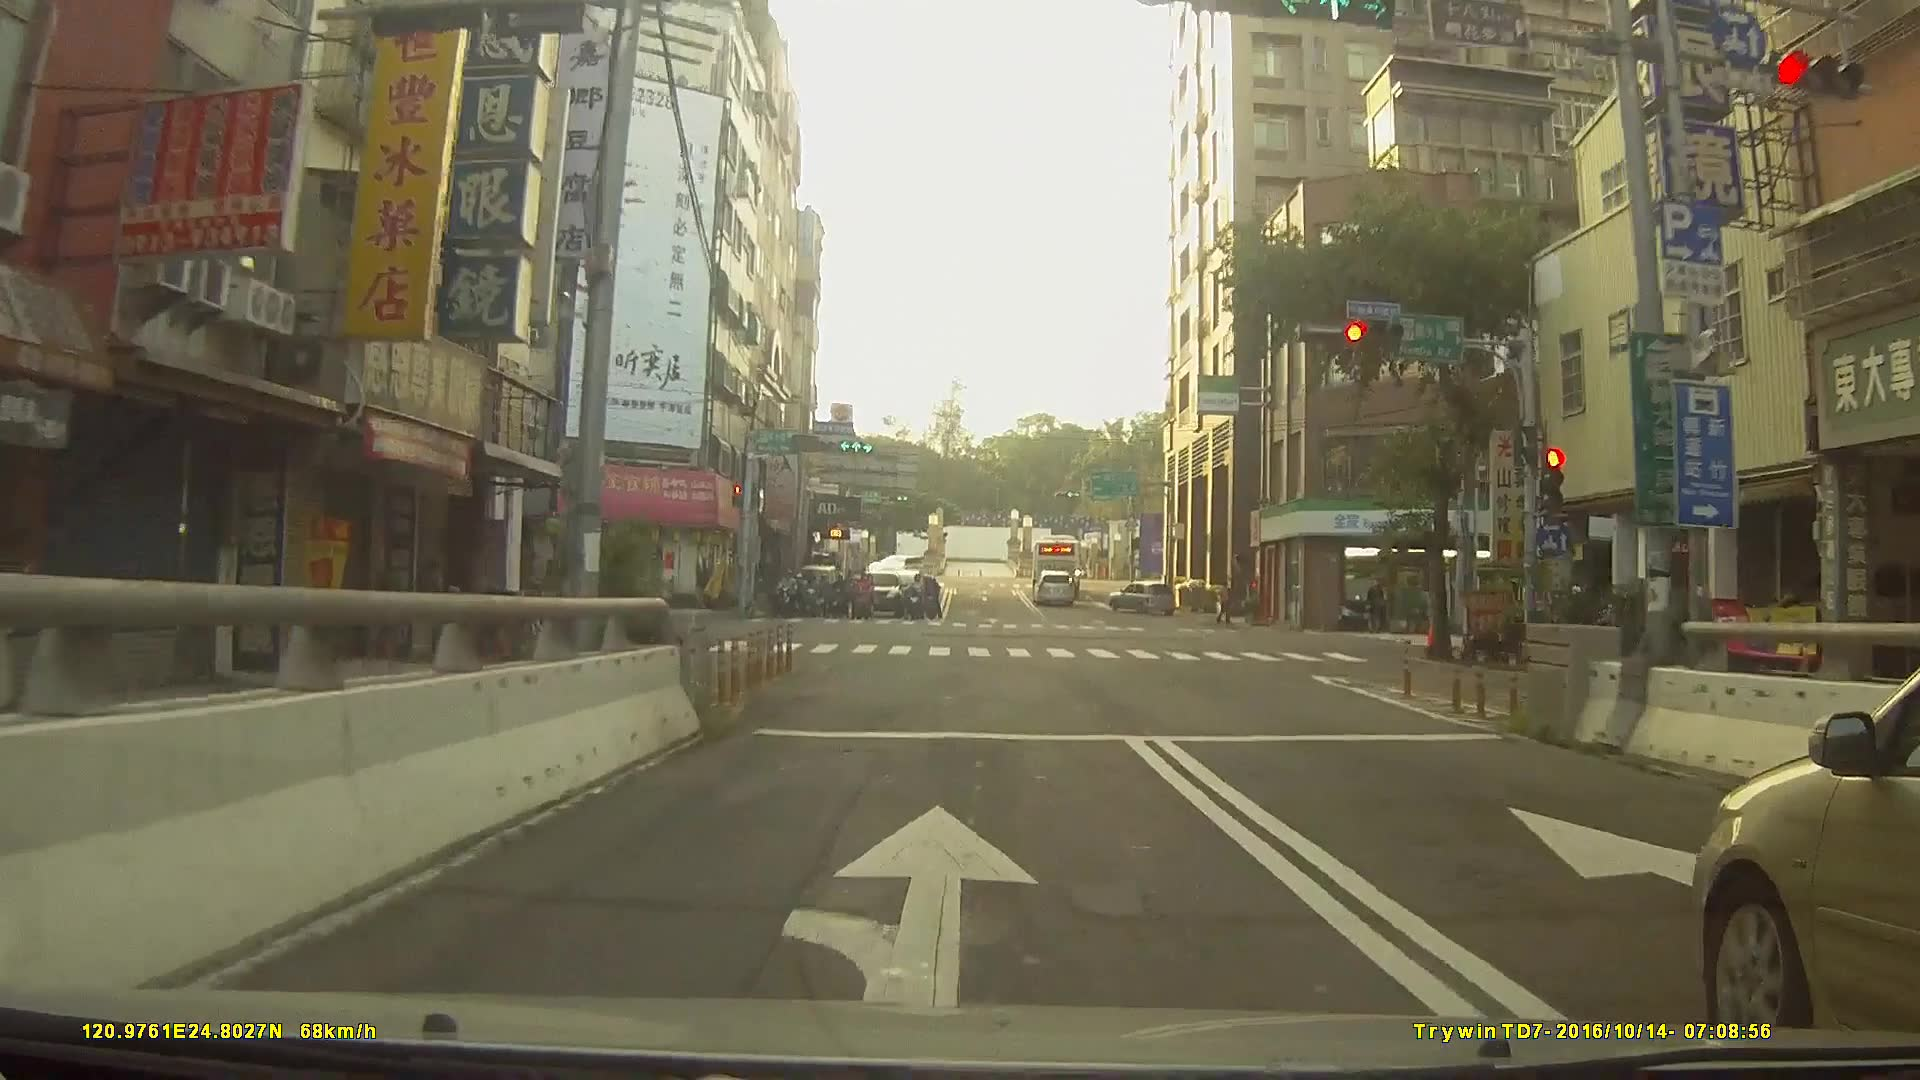pedestrian: (1365, 581, 1391, 635), (1215, 580, 1235, 626)
rider: (775, 569, 801, 617), (826, 576, 850, 621), (906, 574, 926, 624), (803, 573, 824, 618), (922, 576, 942, 621)
vehicle: (1693, 663, 1920, 1043), (1028, 536, 1086, 586), (853, 572, 906, 623), (1107, 579, 1178, 615), (865, 551, 928, 579), (1033, 570, 1078, 605)
